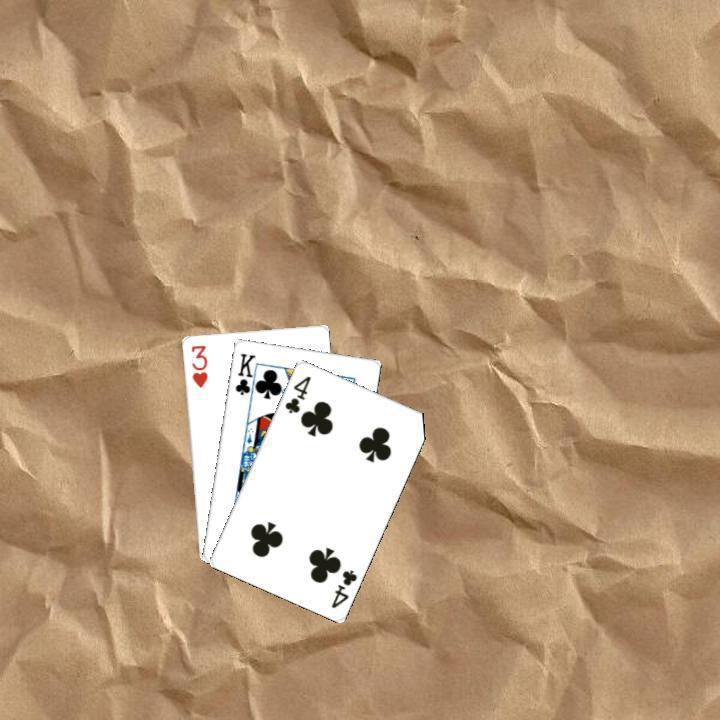3: (187, 340, 209, 389)
4: (280, 371, 313, 415), (327, 565, 359, 610)
K: (230, 349, 260, 402)
